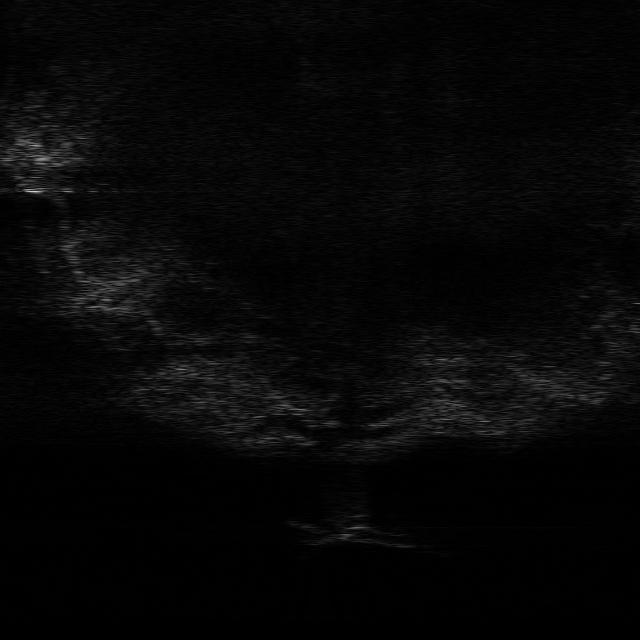plane: (290, 514, 416, 550)
